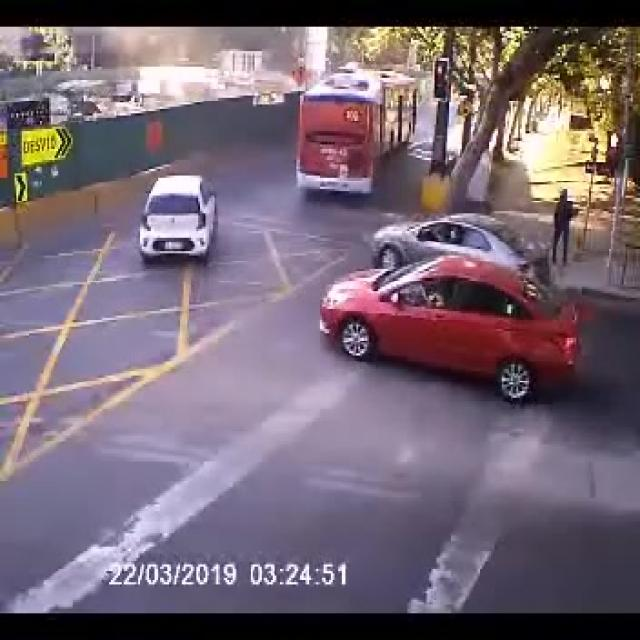AB: (291, 60, 424, 204)
